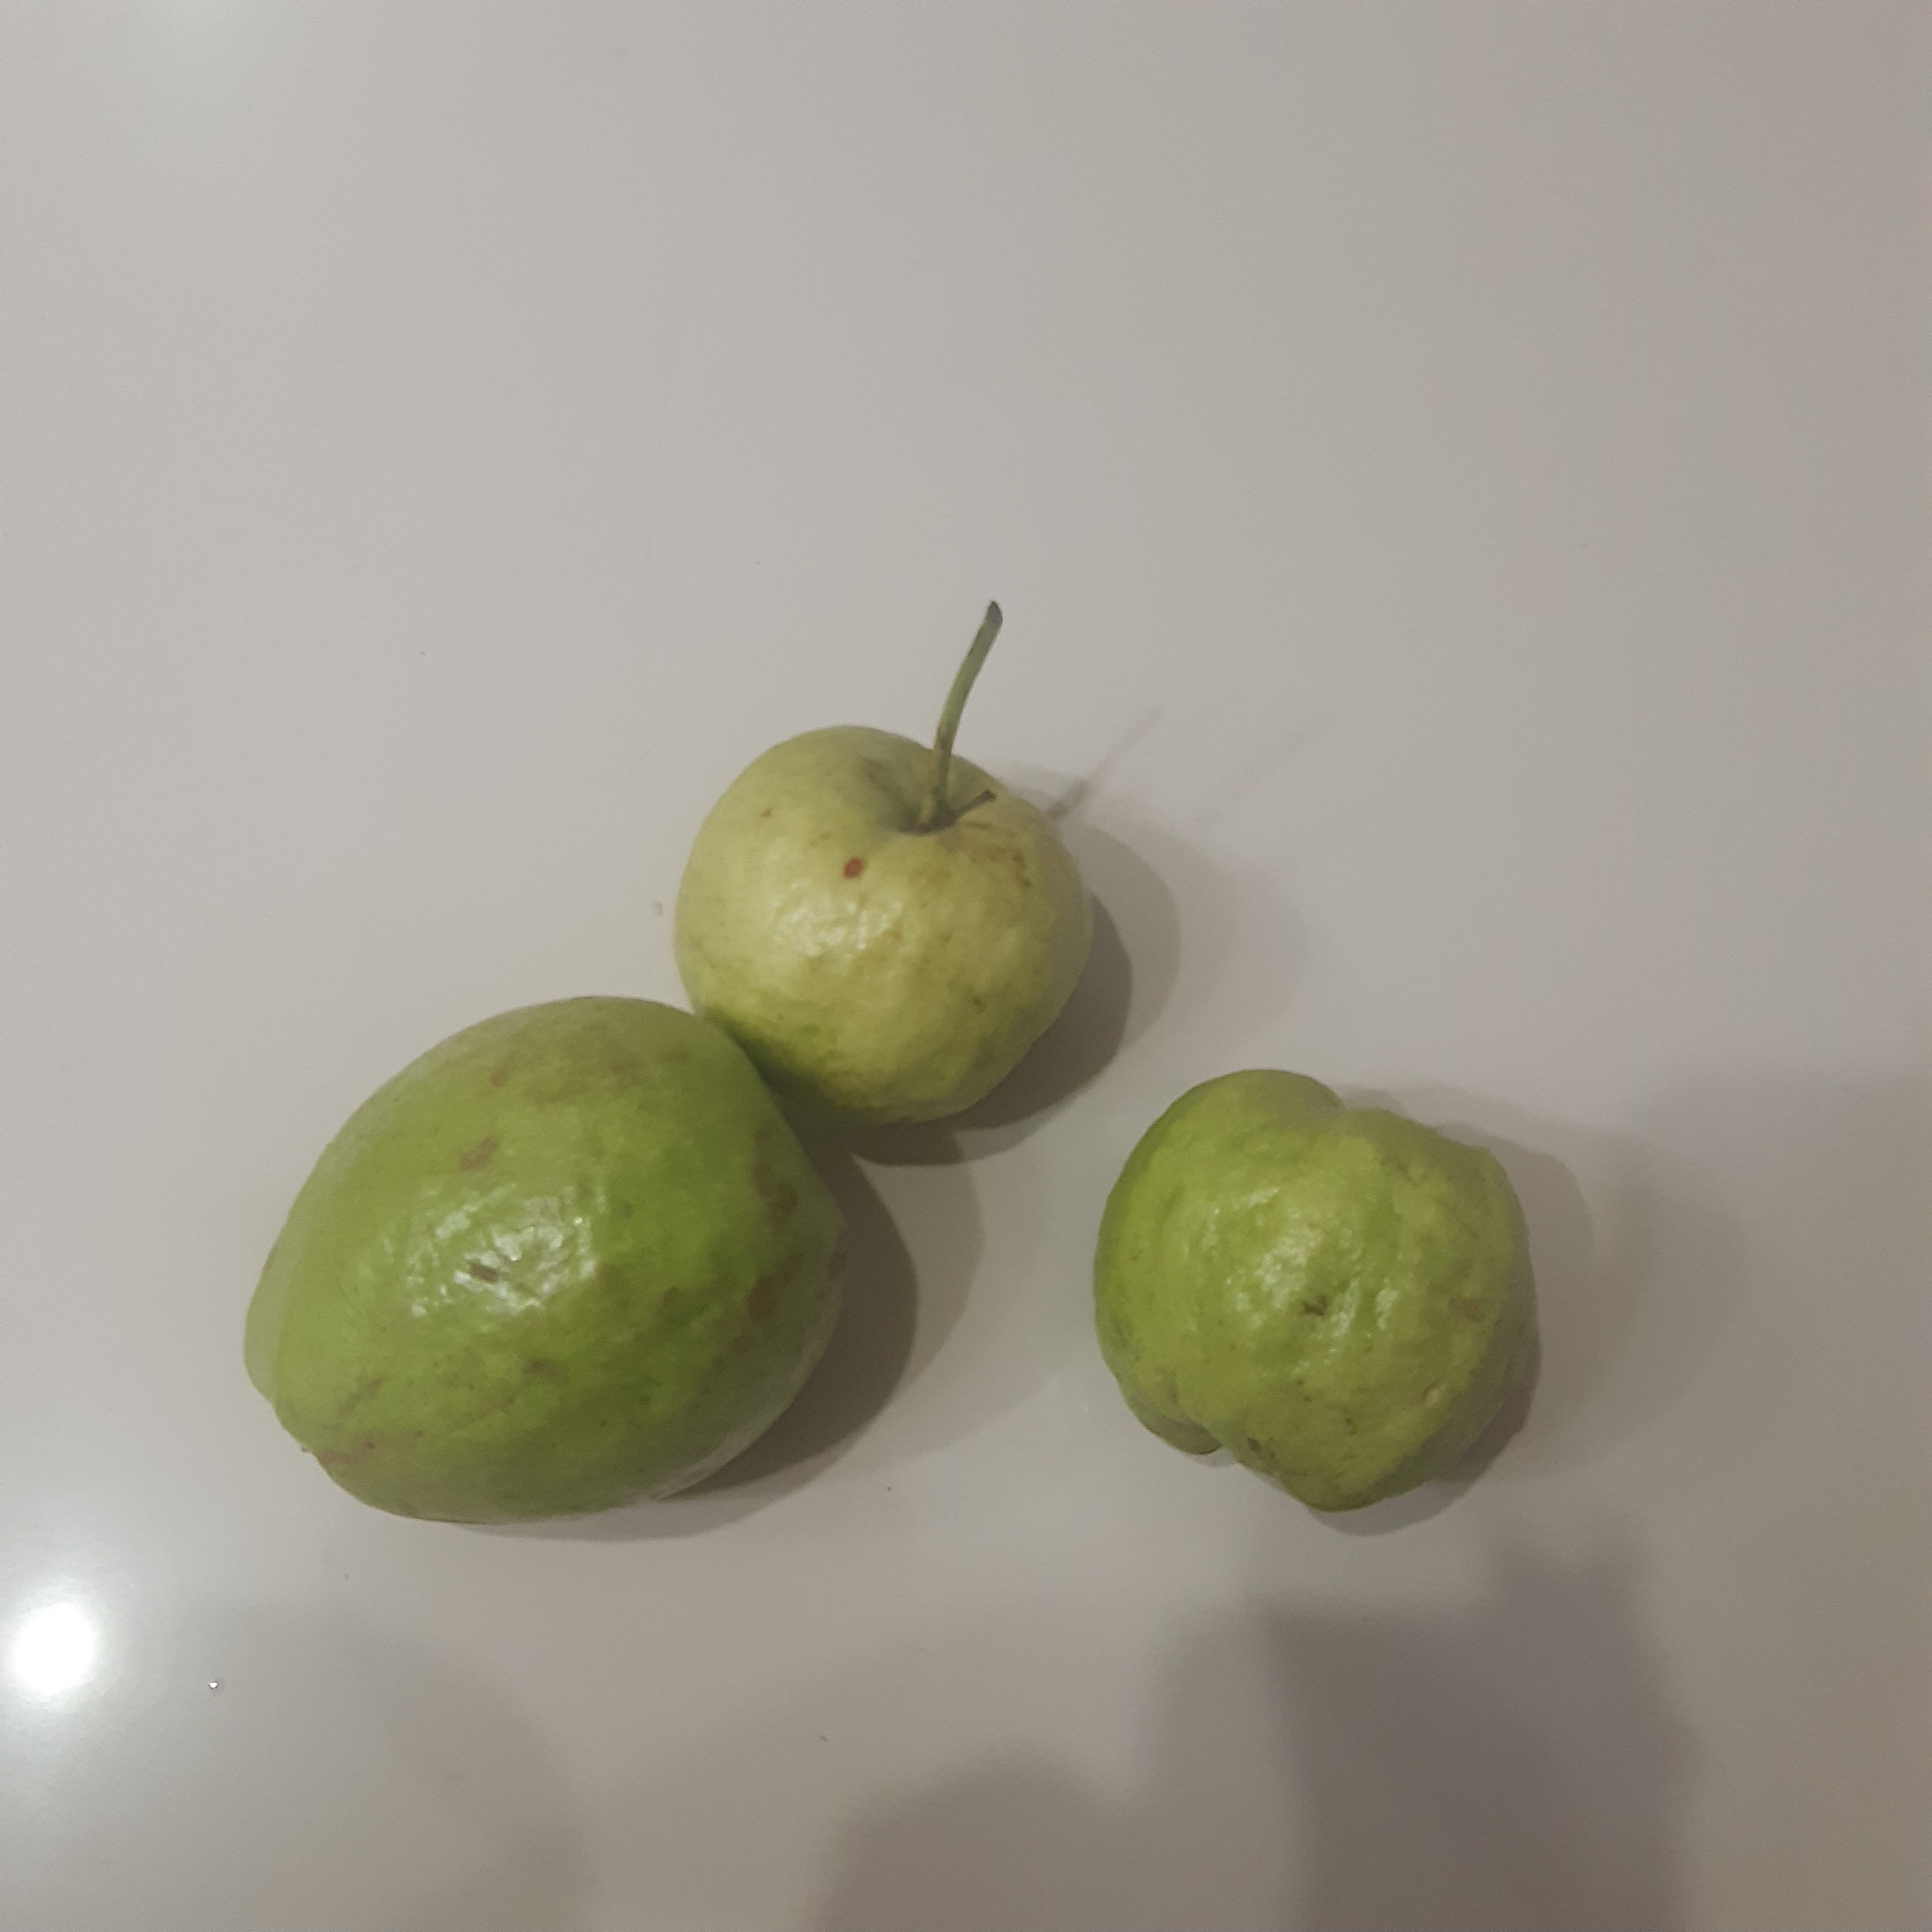Oi: (244, 998, 851, 1525), (1093, 1069, 1537, 1513), (672, 725, 1095, 1131)
